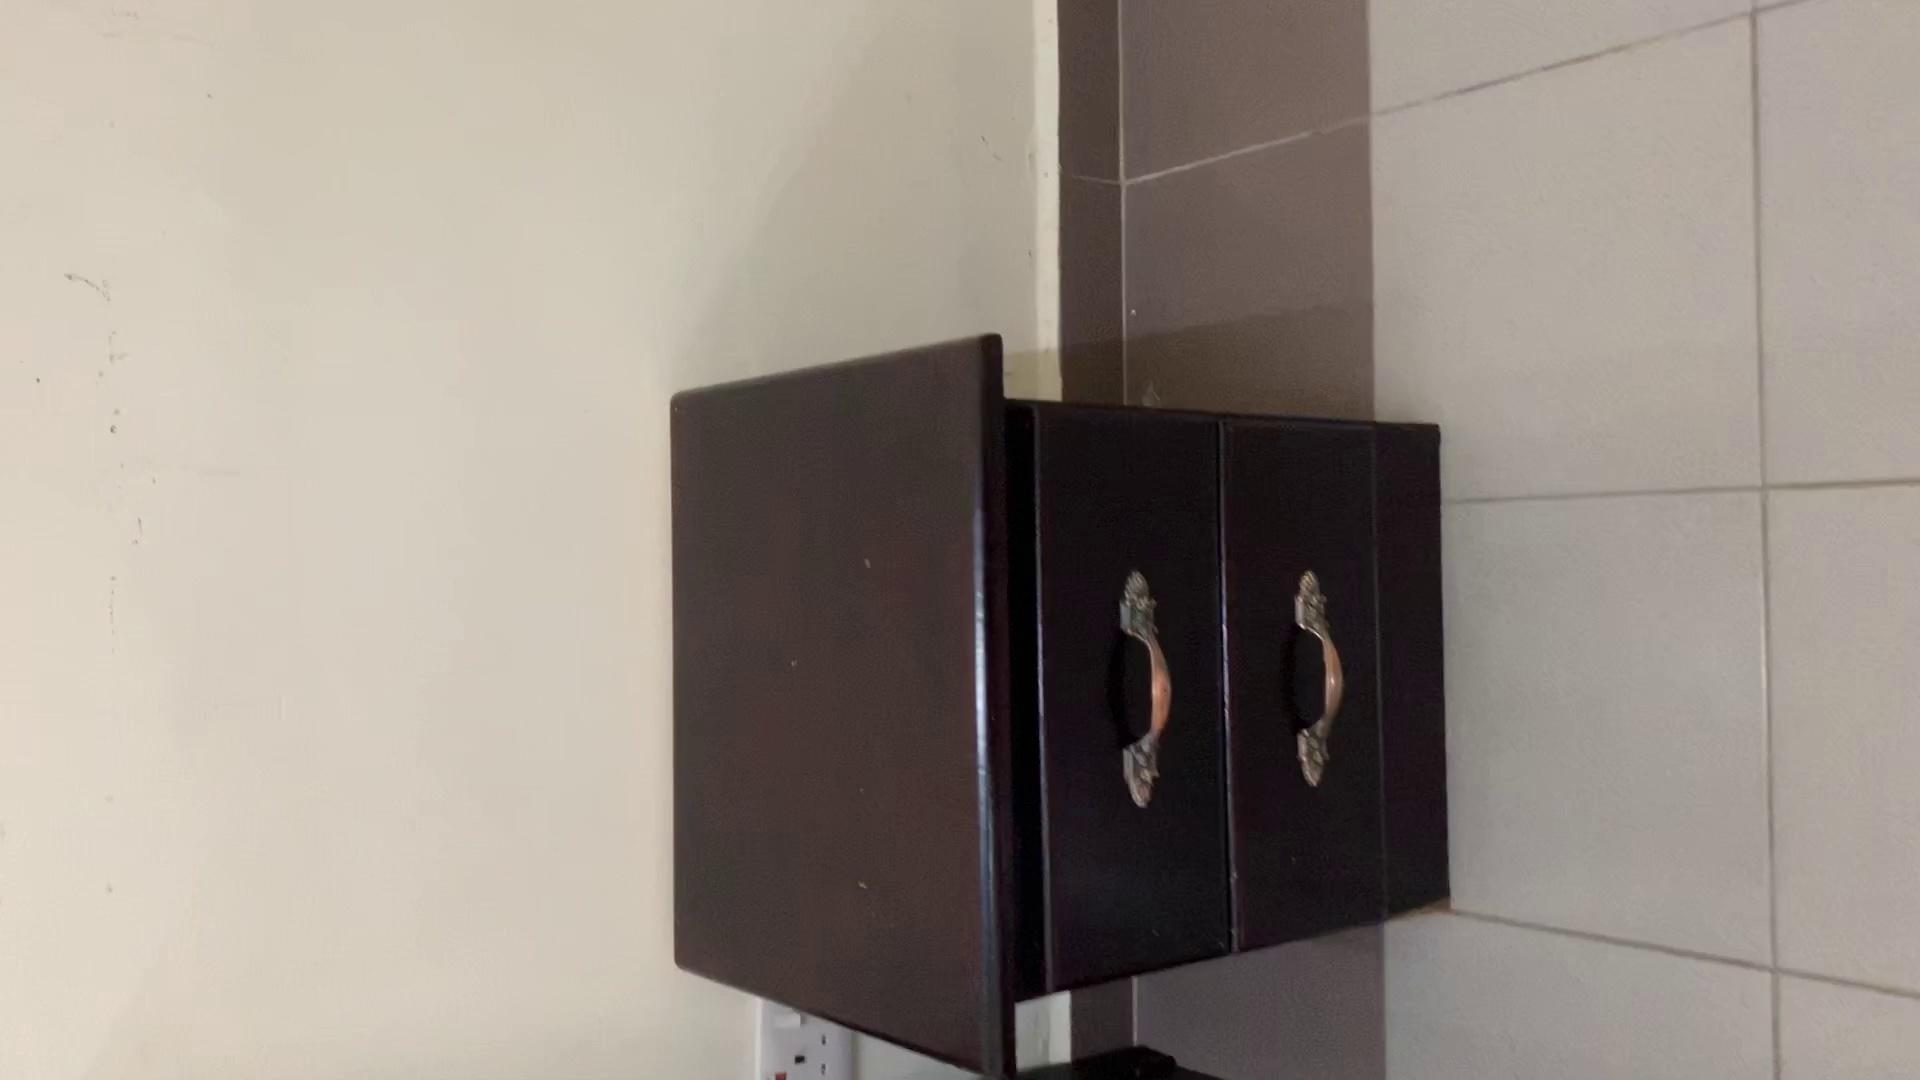cabinet_door: (1050, 423, 1232, 990), (1230, 430, 1395, 924)
handle: (1105, 564, 1180, 816), (1283, 566, 1356, 803)
